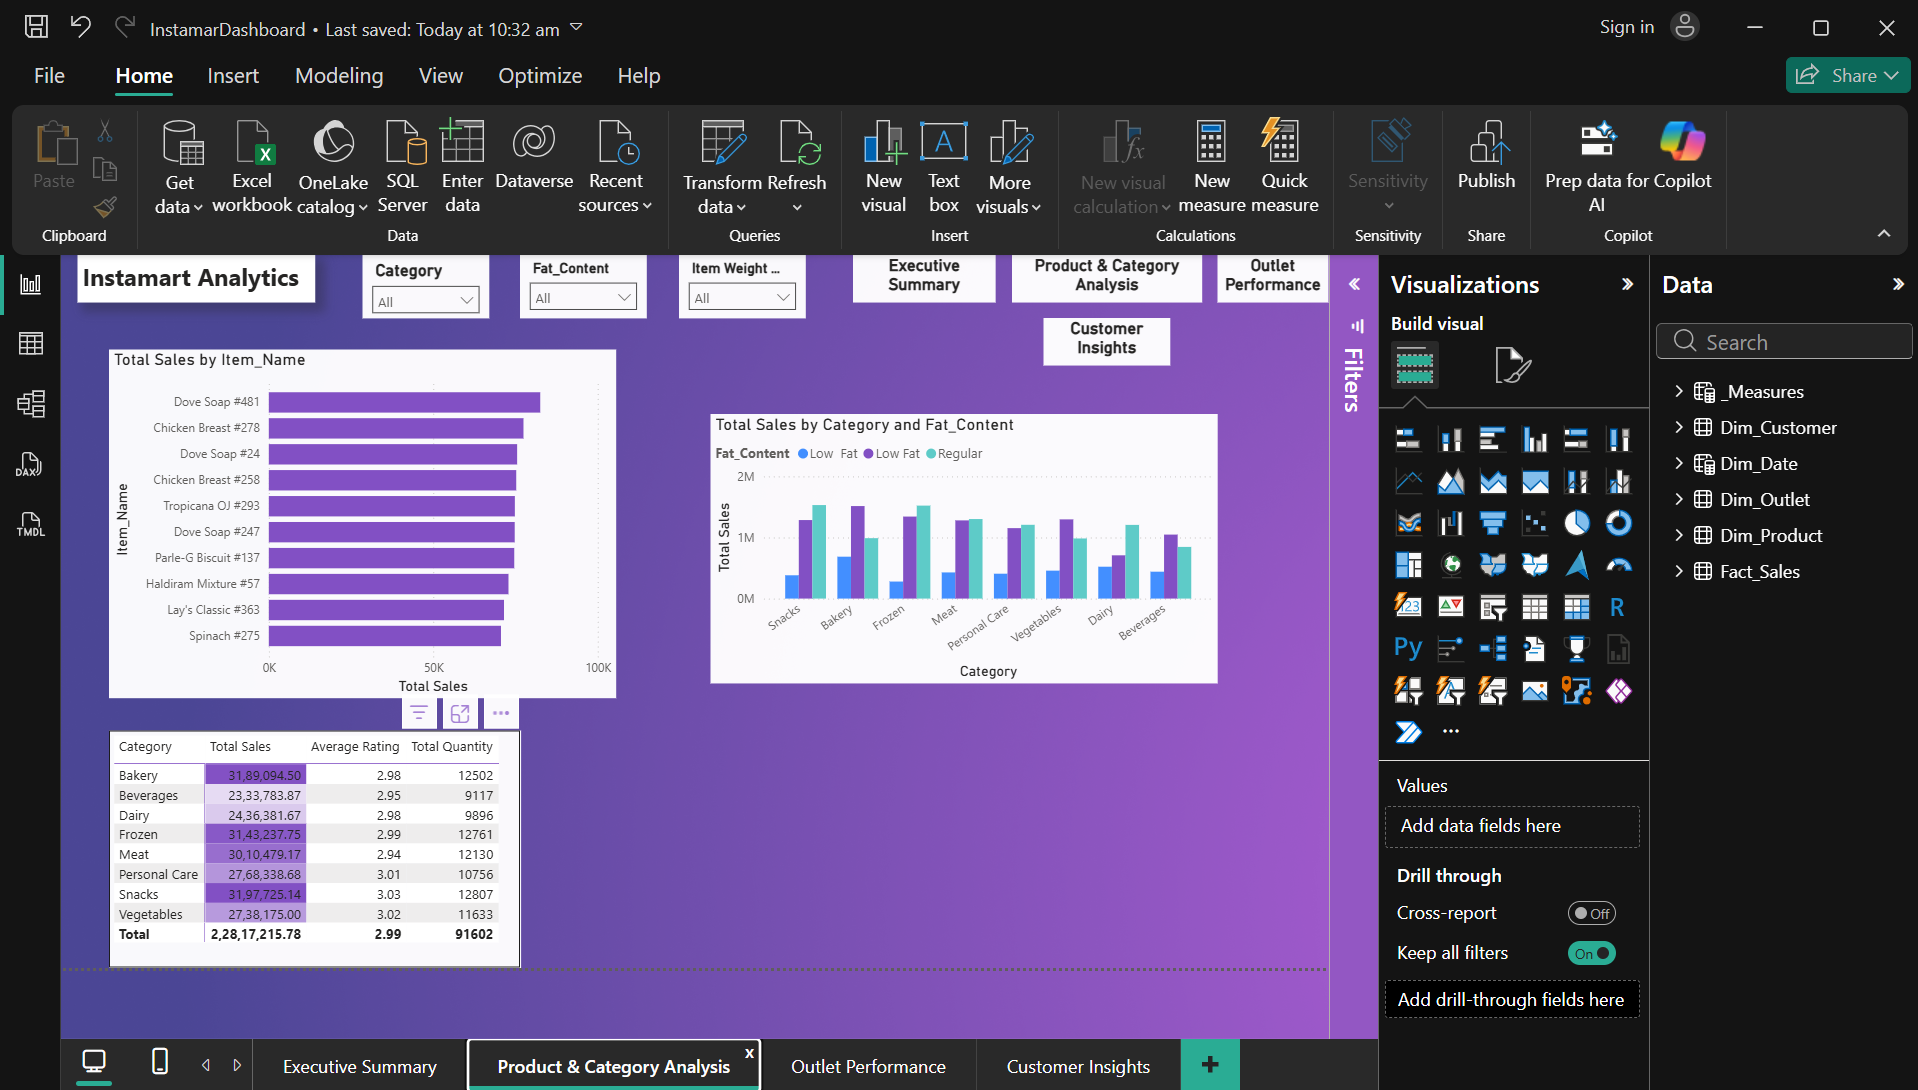

This screenshot's page, from the dashboard's own definition file:
{"tool":"powerbi","page":{"name":"Product & Category Analysis","canvas":[1280,720],"ordinal":1},"visuals":[{"type":"textbox","box":[16,0,240,48],"z":0},{"type":"actionButton","title":"Executive Summary","box":[800,0,144,48],"z":1000},{"type":"actionButton","title":"Product & Category Analysis","box":[960,0,192,48],"z":2000},{"type":"actionButton","title":"Outlet Performance","box":[1168,0,112,48],"z":3000},{"type":"slicer","fields":{"Values":["Dim_Product.Category"]},"box":[304,0,128,64],"z":4000},{"type":"slicer","fields":{"Values":["Dim_Product.Fat_Content"]},"box":[464,0,128,64],"z":5000},{"type":"slicer","fields":{"Values":["Dim_Product.Item Weight Band"]},"box":[624,0,128,64],"z":6000},{"type":"clusteredBarChart","fields":{"Category":["Dim_Product.Item_Name"],"Y":["_Measures.Total Sales"]},"box":[48,96,512,352],"z":7000},{"type":"clusteredColumnChart","fields":{"Series":["Dim_Product.Fat_Content"],"Category":["Dim_Product.Category"],"Y":["_Measures.Total Sales"]},"box":[656,160,512,272],"z":8000},{"type":"pivotTable","fields":{"Rows":["Dim_Product.Category"],"Values":["_Measures.Total Sales","_Measures.Average Rating","_Measures.Total Quantity"]},"box":[48,480,416,240],"z":9000},{"type":"actionButton","title":"Customer Insights ","box":[992,64,128,48],"z":10000}]}

Visuals, with their boxes on the page's 1280x720 design canvas (x1, y1, x2, y2). These are canvas units, not pixel positions in the 1918x1090 screenshot, which may show the page scaled, cropped or inside an application window:
textbox: l=16, t=0, r=256, b=48
"Executive Summary" actionButton: l=800, t=0, r=944, b=48
"Product & Category Analysis" actionButton: l=960, t=0, r=1152, b=48
"Outlet Performance" actionButton: l=1168, t=0, r=1280, b=48
slicer - Dim_Product.Category: l=304, t=0, r=432, b=64
slicer - Dim_Product.Fat_Content: l=464, t=0, r=592, b=64
slicer - Dim_Product.Item Weight Band: l=624, t=0, r=752, b=64
clusteredBarChart - Dim_Product.Item_Name x _Measures.Total Sales: l=48, t=96, r=560, b=448
clusteredColumnChart - Dim_Product.Fat_Content x Dim_Product.Category: l=656, t=160, r=1168, b=432
pivotTable - Dim_Product.Category x _Measures.Total Sales: l=48, t=480, r=464, b=720
"Customer Insights " actionButton: l=992, t=64, r=1120, b=112
